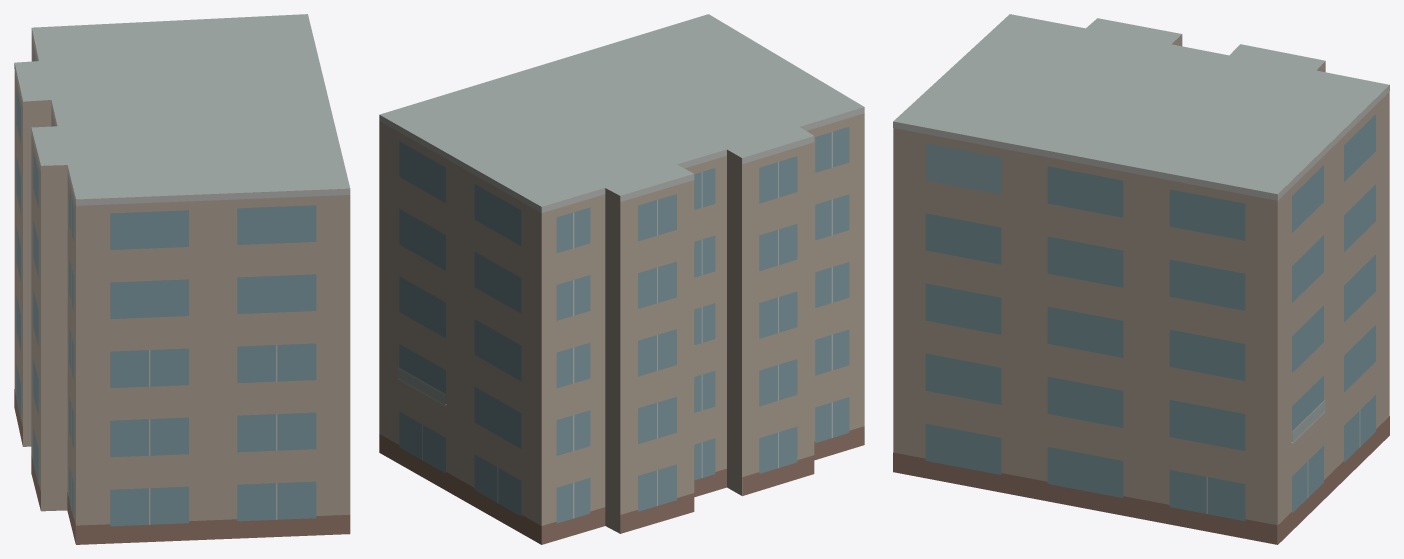
Rendered from survey-upis-32525138.glb.
The picture shows the model from 3 angles, left to right: view 1: azimuth 30°, elevation 25°; view 2: azimuth 150°, elevation 25°; view 3: azimuth 270°, elevation 25°; orthographic projection. The views are drawn at different scales.
Visible parts, largest first — view 1: survey-upis-32525138.tmp; view 2: survey-upis-32525138.tmp; view 3: survey-upis-32525138.tmp.
Boxes of the visible parts, <box> form: survey-upis-32525138.tmp: <box>14,14,350,544</box>; survey-upis-32525138.tmp: <box>379,14,864,544</box>; survey-upis-32525138.tmp: <box>893,14,1389,544</box>.
Bounding box in the file's own units: 14.57 × 13.2 × 16.96.
